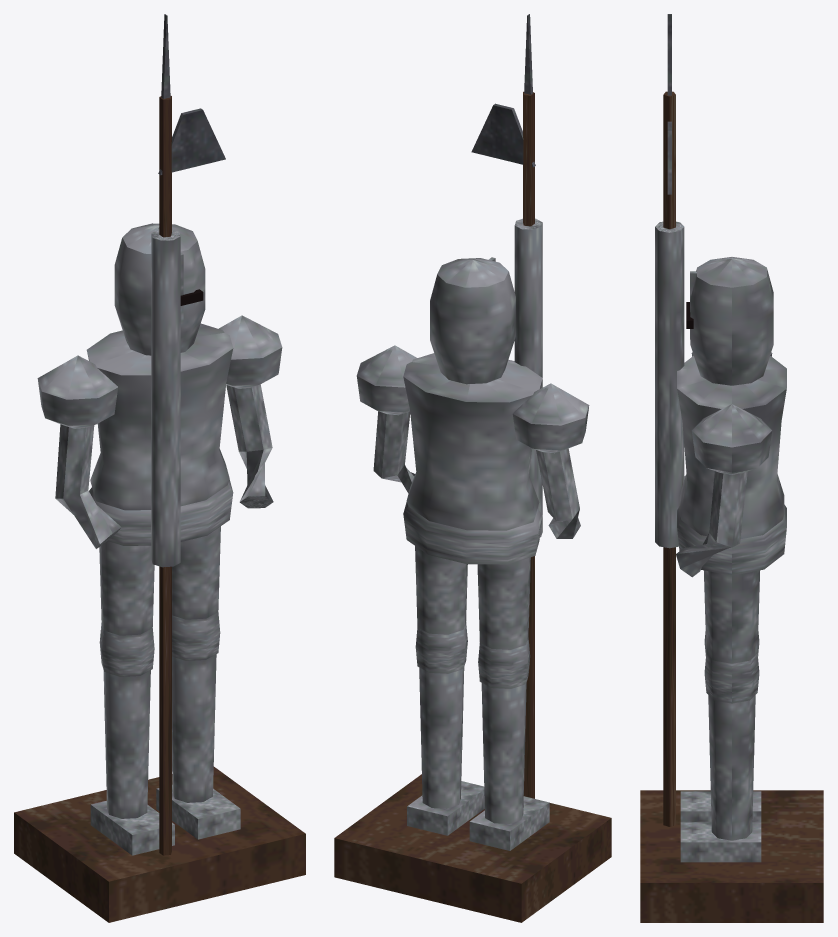
File: suit_of_armour.fbx
3 renders of one model, left to right at view 1: azimuth 30°, elevation 25°; view 2: azimuth 150°, elevation 25°; view 3: azimuth 270°, elevation 25°, orthographic. The views are drawn at different scales.
Parts seen in each view (by area): view 1: suit_of_armour, suit_of_armour_helm; view 2: suit_of_armour, suit_of_armour_helm; view 3: suit_of_armour, suit_of_armour_helm.
Part boxes in pixels (x1,y1,x2,y2): suit_of_armour: (14, 14, 305, 922); suit_of_armour_helm: (114, 223, 205, 355); suit_of_armour: (334, 14, 611, 922); suit_of_armour_helm: (430, 257, 515, 384); suit_of_armour: (640, 14, 823, 922); suit_of_armour_helm: (686, 257, 773, 385).
Size of the model in its own units: 0.72 by 2.56 by 0.5.
1 material, 1 textured.
